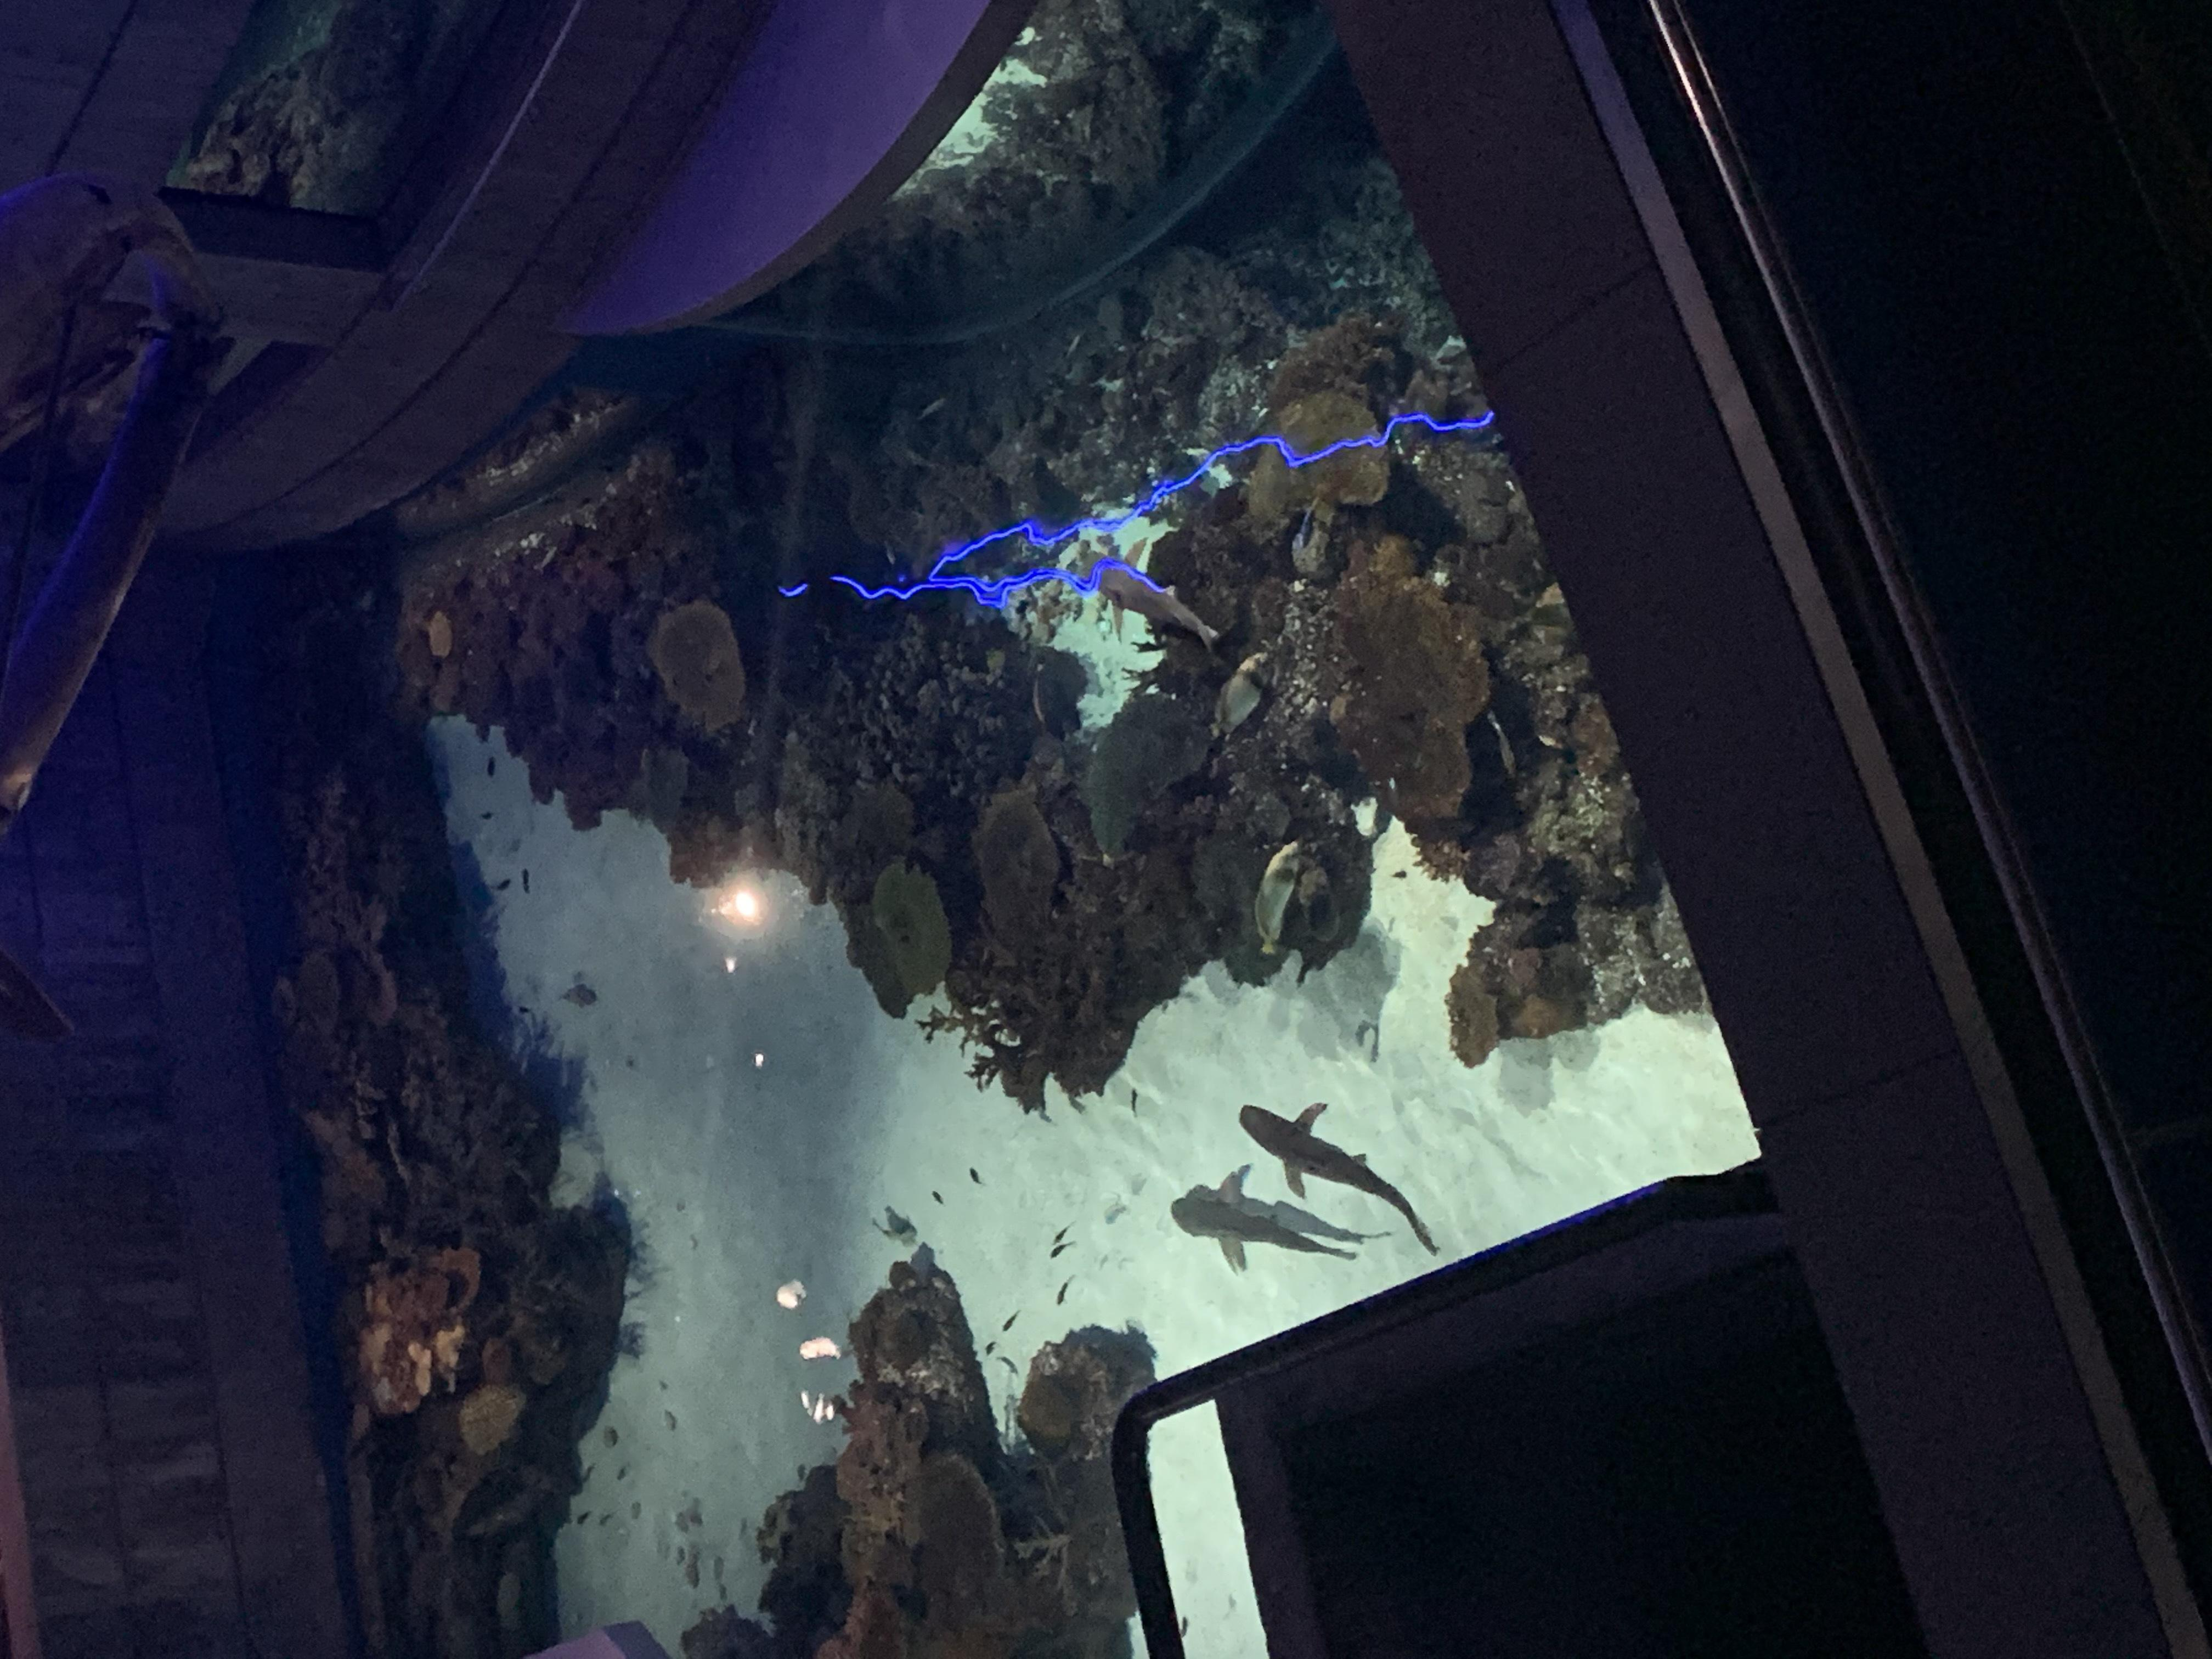fish: (1254, 842, 1308, 953), (1221, 653, 1270, 732), (1298, 495, 1325, 551)
shark: (1237, 1100, 1440, 1258), (1169, 1164, 1352, 1276), (1078, 545, 1217, 652)
